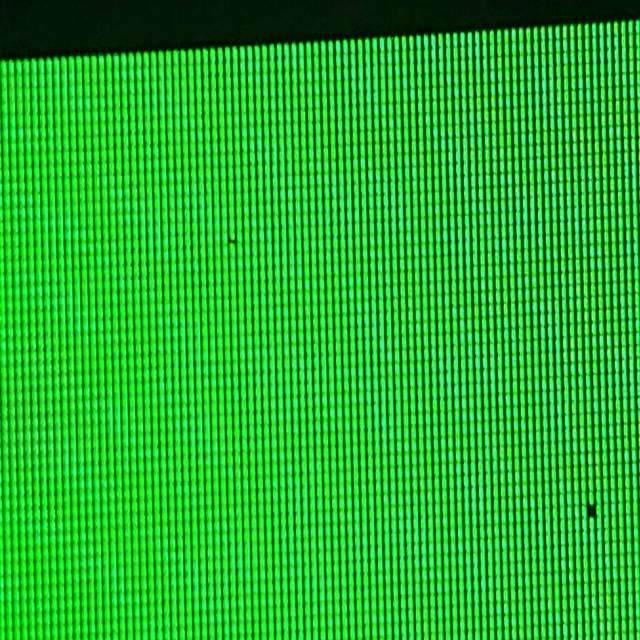Dead pixel: (586, 502, 596, 518), (229, 238, 236, 246)
